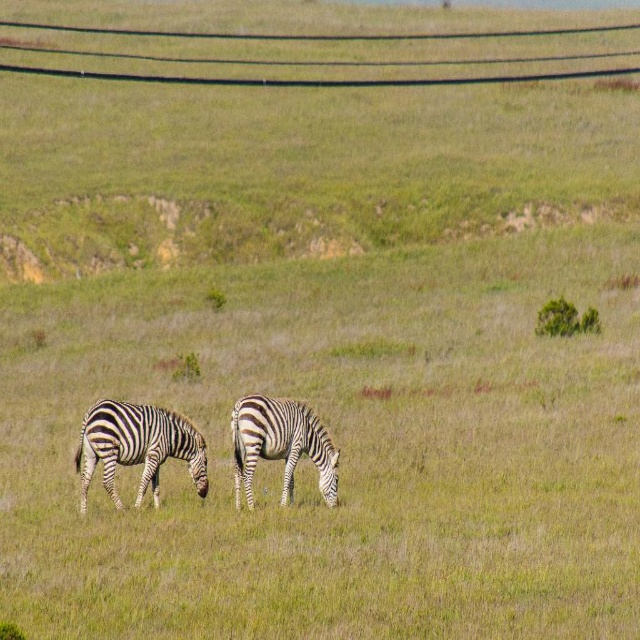Zebra: (74, 398, 209, 515), (231, 393, 341, 510)
